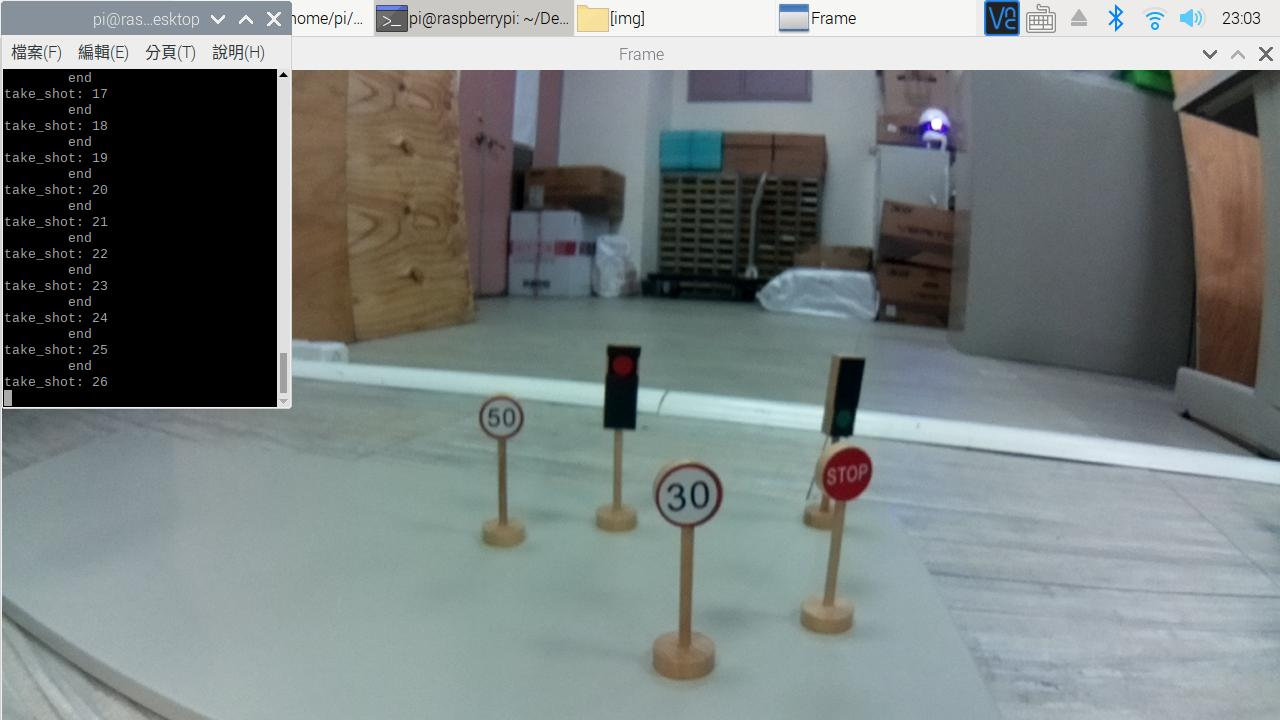Green: (828, 349, 854, 435)
Red: (602, 343, 637, 434)
Speed30: (651, 457, 720, 524)
Speed50: (472, 394, 535, 439)
Stop: (816, 447, 876, 503)
